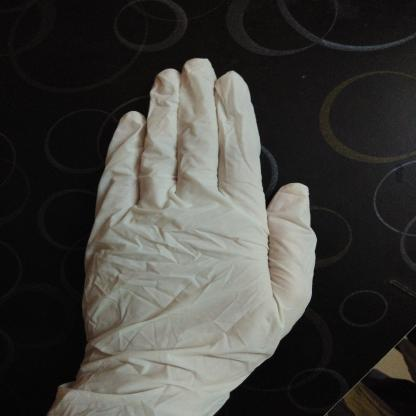gloved_hand: (46, 54, 320, 413)
